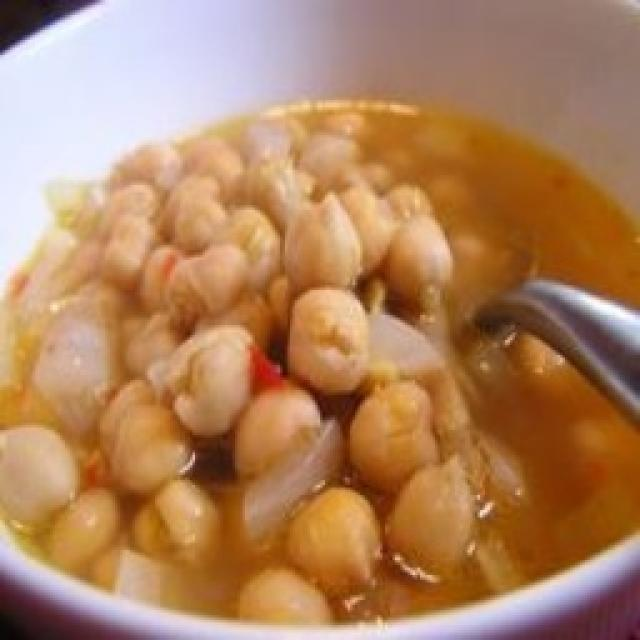Lablabi: (0, 101, 640, 631)
